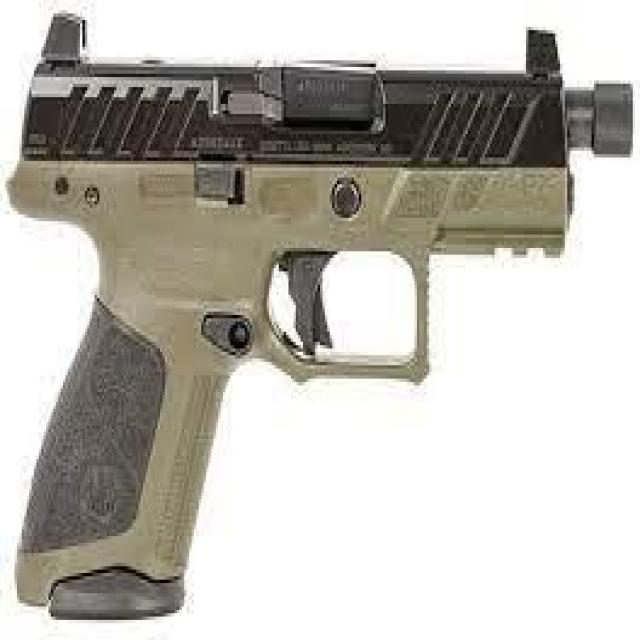gun: (7, 13, 636, 623)
